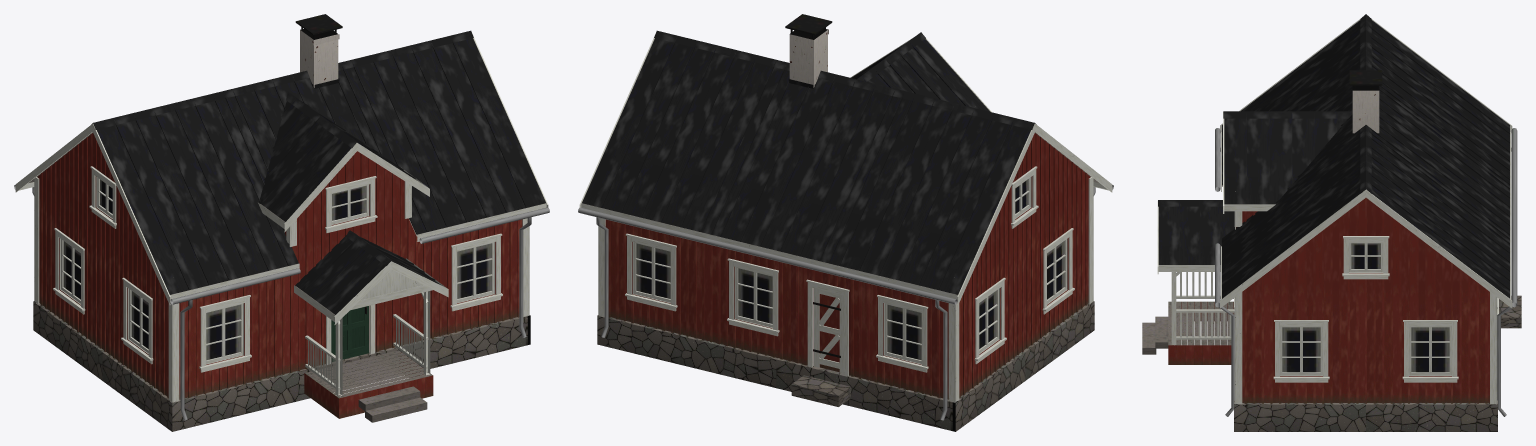
The model's file is red-cottage.glb.
3 renders of one model, left to right at view 1: azimuth 30°, elevation 25°; view 2: azimuth 150°, elevation 25°; view 3: azimuth 270°, elevation 25°, orthographic. The views are drawn at different scales.
Visible parts, largest first — view 1: red-cottage_lod0; view 2: red-cottage_lod0; view 3: red-cottage_lod0.
Boxes of the visible parts, box(x1,y1,x2,y2) form: red-cottage_lod0: box(14, 14, 549, 431); red-cottage_lod0: box(578, 14, 1113, 431); red-cottage_lod0: box(1142, 14, 1521, 431).
Size of the model in its own units: 9.65 by 7.41 by 8.81.
1 material, 1 textured.
